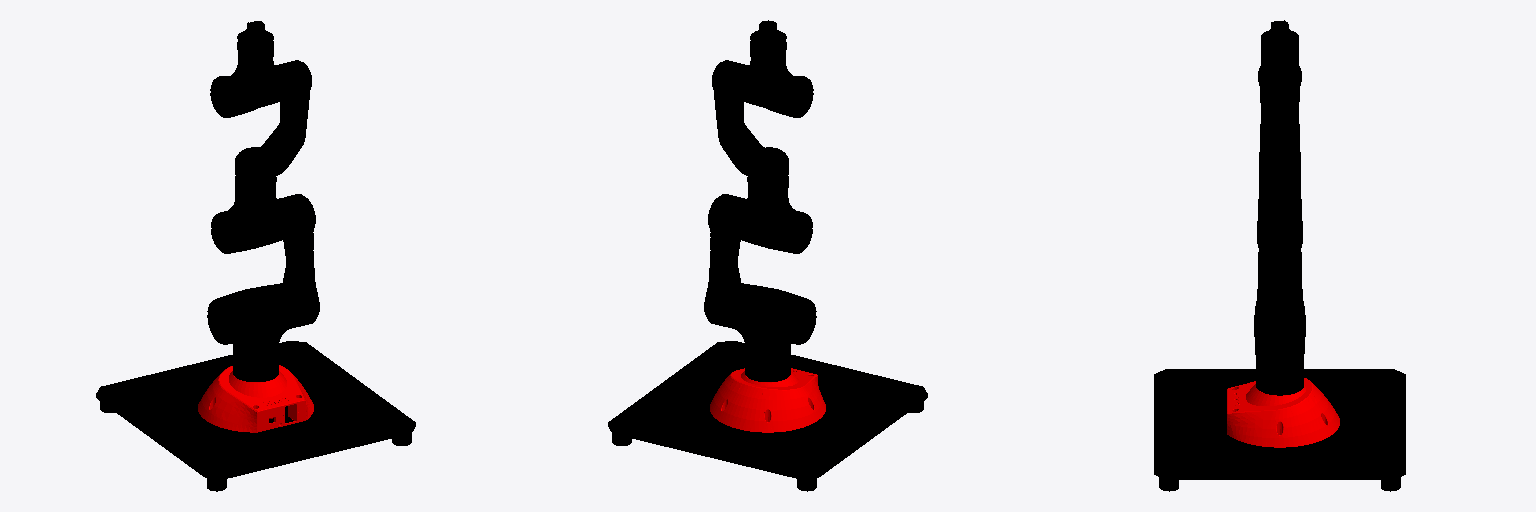
The robot description file, URDF, robot "mara":
<?xml version="1.0" ?>
<!-- =================================================================================== -->
<!-- |    This document was autogenerated by xacro from ros2_mara_ws/src/mara/mara_description/urdf/mara_robot.urdf.xacro | -->
<!-- |    EDITING THIS FILE BY HAND IS NOT RECOMMENDED                                 | -->
<!-- =================================================================================== -->
<robot name="mara" xmlns:xacro="http://ros.org/wiki/xacro">
  <!--
  Author: [author]
-->
  <link name="base_link">
    <inertial>
      <origin rpy="0 0 0" xyz="8.625E-08 -4.6583E-06 0.03145"/>
      <mass value="7.033"/>
      <inertia ixx="0.1478344" ixy="-0.00001" ixz="0.0" iyy="0.14782335" iyz="0.0" izz="0.29471799"/>
    </inertial>
    <visual>
      <origin rpy="0 0 0" xyz="0 0 0"/>
      <geometry>
        <mesh filename="package://mara_description/meshes/Base_plancha.dae" scale="0.001 0.001 0.001"/>
      </geometry>
      <material name="Gazebo/Grey">
        <color rgba="0. 0. 0. 1"/>
      </material>
    </visual>
    <collision>
      <origin rpy="0 0 0" xyz="0 0 0"/>
      <geometry>
        <mesh filename="package://mara_description/meshes/Base_plancha.dae" scale="0.001 0.001 0.001"/>
      </geometry>
    </collision>
  </link>
  <gazebo reference="base_link">
    <material>Gazebo/Grey</material>
    <selfCollide>True</selfCollide>
  </gazebo>
  <link name="base_robot">
    <inertial>
      <origin rpy="0 0 0" xyz="8.625E-08 -4.6583E-06 0.03145"/>
      <mass value="7.033"/>
      <inertia ixx="0.1478344" ixy="0.00001" ixz="0.0" iyy="0.14782335" iyz="0.0" izz="0.29471799"/>
    </inertial>
    <visual>
      <origin rpy="0 0 0" xyz="0 0 0"/>
      <geometry>
        <mesh filename="package://mara_description/meshes/Base.dae" scale="0.001 0.001 0.001"/>
      </geometry>
      <material name="Gazebo/Black">
        <color rgba="1. 0. 0. 1.0"/>
      </material>
    </visual>
    <collision>
      <origin rpy="0 0 0" xyz="0 0 0"/>
      <geometry>
        <mesh filename="package://mara_description/meshes/Base.dae" scale="0.001 0.001 0.001"/>
      </geometry>
    </collision>
  </link>
  <gazebo reference="base_robot">
    <material>Gazebo/Black</material>
    <selfCollide>True</selfCollide>
  </gazebo>
  <link name="motor1_link">
    <inertial>
      <origin rpy="0 0 0" xyz="0.02066 0 0.12051"/>
      <mass value="5.6"/>
      <inertia ixx="0.0200769278" ixy="-7.72273E-006" ixz="-0.0050158708" iyy="0.0257088151" iyz="5.49229E-006" izz="0.0120821377"/>
    </inertial>
    <visual>
      <origin rpy="0 0 0" xyz="0 0 0"/>
      <geometry>
        <mesh filename="package://mara_description/meshes/MARA_T49.dae" scale="0.001 0.001 0.001"/>
      </geometry>
      <material name="Gazebo/White">
        <color rgba="0. 0. 0. 1"/>
      </material>
    </visual>
    <collision>
      <origin rpy="0 0 0" xyz="0 0 0"/>
      <geometry>
        <mesh filename="package://mara_description/meshes/MARA_T49.dae" scale="0.001 0.001 0.001"/>
      </geometry>
    </collision>
  </link>
  <gazebo reference="motor1_link">
    <material>Gazebo/White</material>
    <selfCollide>True</selfCollide>
  </gazebo>
  <link name="motor1_cover">
    <inertial>
      <origin rpy="0 0 0" xyz="0 0 0"/>
      <mass value="0.0"/>
      <inertia ixx="0.0" ixy="0.0" ixz="0.0" iyy="0.0" iyz="0.0" izz="0.0"/>
    </inertial>
    <visual>
      <origin rpy="0 0 0" xyz="0 0 0"/>
      <geometry>
        <mesh filename="package://mara_description/meshes/MARA_T49_Black.dae" scale="0.001 0.001 0.001"/>
      </geometry>
      <material name="Gazebo/Black">
        <color rgba="0. 0. 0. 1"/>
      </material>
    </visual>
    <collision>
      <origin rpy="0 0 0" xyz="0 0 0"/>
      <geometry>
        <mesh filename="package://mara_description/meshes/MARA_T49_Black.dae" scale="0.001 0.001 0.001"/>
      </geometry>
    </collision>
  </link>
  <gazebo reference="motor1_cover">
    <material>Gazebo/Black</material>
    <selfCollide>True</selfCollide>
  </gazebo>
  <link name="motor2_link">
    <inertial>
      <origin rpy="0 0 0" xyz="-0.01665 0.0 0.09639"/>
      <mass value="1.24"/>
      <inertia ixx="0.0079614839" ixy="0.000000037" ixz="0.0003203013" iyy="0.007135338" iyz="-0.000001062" izz="0.001111114"/>
    </inertial>
    <visual>
      <origin rpy="0 0 0" xyz="0 0 0"/>
      <geometry>
        <mesh filename="package://mara_description/meshes/MARA_Link1.dae" scale="0.001 0.001 0.001"/>
      </geometry>
      <material name="Gazebo/Black">
        <color rgba="0. 0. 0. 1"/>
      </material>
    </visual>
    <collision>
      <origin rpy="0 0 0" xyz="0 0 0"/>
      <geometry>
        <mesh filename="package://mara_description/meshes/MARA_Link1.dae" scale="0.001 0.001 0.001"/>
      </geometry>
    </collision>
  </link>
  <gazebo reference="motor2_link">
    <material>Gazebo/Black</material>
    <selfCollide>True</selfCollide>
  </gazebo>
  <link name="motor3_link">
    <inertial>
      <origin rpy="0 0 0" xyz="-0.08963 0 0.0403"/>
      <mass value="3.95"/>
      <inertia ixx="0.0115136615" ixy="-1.231046E-005" ixz="0.003148516" iyy="0.0149841676" iyz="-8.81378E-006" izz="0.0070387807"/>
    </inertial>
    <visual>
      <origin rpy="0 0 0" xyz="0 0 0"/>
      <geometry>
        <mesh filename="package://mara_description/meshes/MARA_T30.dae" scale="0.001 0.001 0.001"/>
      </geometry>
      <material name="Gazebo/White">
        <color rgba="0. 0. 0. 1"/>
      </material>
    </visual>
    <collision>
      <origin rpy="0 0 0" xyz="0 0 0"/>
      <geometry>
        <mesh filename="package://mara_description/meshes/MARA_T30.dae" scale="0.001 0.001 0.001"/>
      </geometry>
    </collision>
  </link>
  <gazebo reference="motor3_link">
    <material>Gazebo/White</material>
    <selfCollide>True</selfCollide>
  </gazebo>
  <link name="motor3_cover">
    <inertial>
      <origin rpy="0 0 0" xyz="0 0 0"/>
      <mass value="0.0"/>
      <inertia ixx="0.0" ixy="0.0" ixz="0.0" iyy="0.0" iyz="0.0" izz="0.0"/>
    </inertial>
    <visual>
      <origin rpy="0 0 0" xyz="0 0 0"/>
      <geometry>
        <mesh filename="package://mara_description/meshes/MARA_T30_Black.dae" scale="0.001 0.001 0.001"/>
      </geometry>
      <material name="Gazebo/Black">
        <color rgba="0. 0. 0. 1"/>
      </material>
    </visual>
    <collision>
      <origin rpy="0 0 0" xyz="0 0 0"/>
      <geometry>
        <mesh filename="package://mara_description/meshes/MARA_T30_Black.dae" scale="0.001 0.001 0.001"/>
      </geometry>
    </collision>
  </link>
  <gazebo reference="motor3_cover">
    <material>Gazebo/Black</material>
    <selfCollide>True</selfCollide>
  </gazebo>
  <link name="motor4_link">
    <inertial>
      <origin rpy="0 0 0" xyz="0.06357 0.0 0.05698"/>
      <mass value="1.26"/>
      <inertia ixx="0.005919676" ixy="0.000000923" ixz="-0.0022280208" iyy="0.0068807393" iyz="6.1373E-007" izz="0.00257485"/>
    </inertial>
    <visual>
      <origin rpy="0 0 0" xyz="0 0 0"/>
      <geometry>
        <mesh filename="package://mara_description/meshes/MARA_Link2.dae" scale="0.001 0.001 0.001"/>
      </geometry>
      <material name="Gazebo/Black">
        <color rgba="0. 0. 0. 1"/>
      </material>
    </visual>
    <collision>
      <origin rpy="0 0 0" xyz="0 0 0"/>
      <geometry>
        <mesh filename="package://mara_description/meshes/MARA_Link2.dae" scale="0.001 0.001 0.001"/>
      </geometry>
    </collision>
  </link>
  <gazebo reference="motor4_link">
    <material>Gazebo/Black</material>
    <selfCollide>True</selfCollide>
  </gazebo>
  <link name="motor5_link">
    <inertial>
      <origin rpy="0 0 0" xyz="-0.09105 0.0 0.03676"/>
      <mass value="2.85"/>
      <inertia ixx="0.0072829492" ixy="3.77994E-006" ixz="0.0015682105" iyy="0.0098263499" iyz="2.52745E-006" izz="0.0045615321"/>
    </inertial>
    <visual>
      <origin rpy="0 0 0" xyz="0 0 0"/>
      <geometry>
        <mesh filename="package://mara_description/meshes/MARA_T5.4.dae" scale="0.001 0.001 0.001"/>
      </geometry>
      <material name="Gazebo/White">
        <color rgba="0. 0. 0. 1"/>
      </material>
    </visual>
    <collision>
      <origin rpy="0 0 0" xyz="0 0 0"/>
      <geometry>
        <mesh filename="package://mara_description/meshes/MARA_T5.4.dae" scale="0.001 0.001 0.001"/>
      </geometry>
    </collision>
  </link>
  <gazebo reference="motor5_link">
    <material>Gazebo/White</material>
    <selfCollide>True</selfCollide>
  </gazebo>
  <link name="motor5_cover">
    <inertial>
      <origin rpy="0 0 0" xyz="0 0 0"/>
      <mass value="0.0"/>
      <inertia ixx="0.0" ixy="0.0" ixz="0.0" iyy="0.0" iyz="0.0" izz="0.0"/>
    </inertial>
    <visual>
      <origin rpy="0 0 0" xyz="0 0 0"/>
      <geometry>
        <mesh filename="package://mara_description/meshes/MARA_T5.4_black.dae" scale="0.001 0.001 0.001"/>
      </geometry>
      <material name="Gazebo/Black">
        <color rgba="0. 0. 0. 1"/>
      </material>
    </visual>
    <collision>
      <origin rpy="0 0 0" xyz="0 0 0"/>
      <geometry>
        <mesh filename="package://mara_description/meshes/MARA_T5.4_black.dae" scale="0.001 0.001 0.001"/>
      </geometry>
    </collision>
  </link>
  <gazebo reference="motor5_cover">
    <material>Gazebo/Black</material>
    <selfCollide>True</selfCollide>
  </gazebo>
  <!-- dummy link with the required tags-->
  <link name="motor6_link">
    <inertial>
      <origin rpy="0 0 0" xyz="0 0 0"/>
      <mass value="0.00001"/>
      <inertia ixx="0" ixy="0" ixz="0" iyy="0" iyz="0" izz="0"/>
    </inertial>
    <visual>
      <origin rpy="0 0 0" xyz="0 0 0"/>
      <geometry>
        <sphere radius="0"/>
      </geometry>
    </visual>
    <collision>
      <origin rpy="0 0 0" xyz="0 0 0"/>
      <geometry>
        <sphere radius="0"/>
      </geometry>
    </collision>
  </link>
  <link name="ee_link"/>
  <joint name="joint_bases" type="fixed">
    <origin rpy="0 0 0" xyz="0 0 0.04"/>
    <parent link="base_link"/>
    <child link="base_robot"/>
  </joint>
  <joint name="motor1" type="revolute">
    <origin rpy="0 0 0" xyz="0 0 0.05122"/>
    <parent link="base_robot"/>
    <child link="motor1_link"/>
    <axis xyz="0 0 1"/>
    <limit effort="104.0" lower="-3.1416" upper="3.1416" velocity="1.57"/>
    <dynamics damping="0" friction="0"/>
  </joint>
  <joint name="motor1_cover_joint" type="fixed">
    <origin rpy="0 0 0" xyz="0 0 0.0"/>
    <parent link="motor1_link"/>
    <child link="motor1_cover"/>
  </joint>
  <joint name="motor2" type="revolute">
    <origin rpy="0 0 0" xyz="0.118 0 0.1637"/>
    <parent link="motor1_link"/>
    <child link="motor2_link"/>
    <axis xyz="1 0 0"/>
    <limit effort="104.0" lower="-2.35" upper="2.35" velocity="1.57"/>
    <dynamics damping="0" friction="0"/>
  </joint>
  <joint name="motor3" type="revolute">
    <origin rpy="0 0 0" xyz="-0.009 0 0.2"/>
    <parent link="motor2_link"/>
    <child link="motor3_link"/>
    <axis xyz="-1 0 0"/>
    <limit effort="69" lower="-2.61" upper="2.61" velocity="1.57"/>
    <dynamics damping="0" friction="0"/>
  </joint>
  <joint name="motor3_cover_joint" type="fixed">
    <origin rpy="0 0 0" xyz="0 0 0.0"/>
    <parent link="motor3_link"/>
    <child link="motor3_cover"/>
  </joint>
  <joint name="motor4" type="revolute">
    <origin rpy="0 0 0" xyz="-0.109255 0 0.149255"/>
    <parent link="motor3_link"/>
    <child link="motor4_link"/>
    <axis xyz="0 0 1"/>
    <limit effort="69" lower="-3.14" upper="3.14" velocity="1.57"/>
    <dynamics damping="0" friction="0"/>
  </joint>
  <joint name="motor5" type="revolute">
    <origin rpy="0 0 0" xyz="0.1054570 0 0.16074"/>
    <parent link="motor4_link"/>
    <child link="motor5_link"/>
    <axis xyz="-1 0 0"/>
    <limit effort="34" lower="-2.56" upper="2.56" velocity="1.57"/>
    <dynamics damping="0" friction="0"/>
  </joint>
  <joint name="motor5_cover_joint" type="fixed">
    <origin rpy="0 0 0" xyz="0 0 0.0"/>
    <parent link="motor5_link"/>
    <child link="motor5_cover"/>
  </joint>
  <joint name="motor6" type="revolute">
    <origin rpy="0 0 0" xyz="-0.10625569 0 0.14675569"/>
    <parent link="motor5_link"/>
    <child link="motor6_link"/>
    <axis xyz="0 0 1"/>
    <limit effort="34" lower="-3.14" upper="3.14" velocity="1.57"/>
    <dynamics damping="0" friction="0"/>
  </joint>
  <joint name="ee_link" type="fixed">
    <origin rpy="0 -1.57 0" xyz="0 0.0 0.0"/>
    <parent link="motor6_link"/>
    <child link="ee_link"/>
  </joint>
  <link name="tool0"/>
  <joint name="motor6_link-tool0_fixed_joint" type="fixed">
    <origin rpy="0 -1.57 0" xyz="0 0.0 0.0"/>
    <parent link="motor6_link"/>
    <child link="tool0"/>
  </joint>
  <transmission name="shoulder_pan_trans">
    <type>transmission_interface/SimpleTransmission</type>
    <joint name="motor1">
      <hardwareInterface>hardware_interface/PositionJointInterface</hardwareInterface>
    </joint>
    <actuator name="shoulder_pan_motor">
      <mechanicalReduction>1</mechanicalReduction>
    </actuator>
  </transmission>
  <transmission name="shoulder_lift_trans">
    <type>transmission_interface/SimpleTransmission</type>
    <joint name="motor2">
      <hardwareInterface>hardware_interface/PositionJointInterface</hardwareInterface>
    </joint>
    <actuator name="shoulder_lift_motor">
      <mechanicalReduction>1</mechanicalReduction>
    </actuator>
  </transmission>
  <transmission name="elbow_trans">
    <type>transmission_interface/SimpleTransmission</type>
    <joint name="motor3">
      <hardwareInterface>hardware_interface/PositionJointInterface</hardwareInterface>
    </joint>
    <actuator name="elbow_motor">
      <mechanicalReduction>1</mechanicalReduction>
    </actuator>
  </transmission>
  <transmission name="wrist_1_trans">
    <type>transmission_interface/SimpleTransmission</type>
    <joint name="motor4">
      <hardwareInterface>hardware_interface/PositionJointInterface</hardwareInterface>
    </joint>
    <actuator name="wrist_1_motor">
      <mechanicalReduction>1</mechanicalReduction>
    </actuator>
  </transmission>
  <transmission name="wrist_2_trans">
    <type>transmission_interface/SimpleTransmission</type>
    <joint name="motor5">
      <hardwareInterface>hardware_interface/PositionJointInterface</hardwareInterface>
    </joint>
    <actuator name="wrist_2_motor">
      <mechanicalReduction>1</mechanicalReduction>
    </actuator>
  </transmission>
  <transmission name="wrist_3_trans">
    <type>transmission_interface/SimpleTransmission</type>
    <joint name="motor6">
      <hardwareInterface>hardware_interface/PositionJointInterface</hardwareInterface>
    </joint>
    <actuator name="wrist_3_motor">
      <mechanicalReduction>1</mechanicalReduction>
    </actuator>
  </transmission>
  <gazebo>
    <plugin filename="libgazebo_ros_joint_state_publisher.so" name="mara_joint_state">
      <ros>
        <argument>~/out:=joint_states</argument>
      </ros>
      <update_rate>25</update_rate>
      <joint_name>motor1</joint_name>
      <joint_name>motor2</joint_name>
      <joint_name>motor3</joint_name>
      <joint_name>motor4</joint_name>
      <joint_name>motor5</joint_name>
      <joint_name>motor6</joint_name>
      <joint_name>joint_finger</joint_name>
    </plugin>
    <plugin filename="libmara_gazebo_joint_plugin.so" name="hrim_actuation_servomotor_000000000001">
      <ros/>
      <axis1>motor2</axis1>
      <axis2>motor1</axis2>
      <type>series14</type>
    </plugin>
    <plugin filename="libmara_gazebo_joint_plugin.so" name="hrim_actuation_servomotor_000000000002">
      <ros/>
      <axis1>motor3</axis1>
      <axis2>motor4</axis2>
      <type>series17</type>
    </plugin>
    <plugin filename="libmara_gazebo_joint_plugin.so" name="hrim_actuation_servomotor_000000000003">
      <ros/>
      <axis1>motor5</axis1>
      <axis2>motor6</axis2>
      <type>series20</type>
    </plugin>
  </gazebo>
  <link name="world"/>
  <joint name="world_to_base_joint" type="fixed">
    <origin rpy="0 0 0" xyz="0 0 0"/>
    <parent link="world"/>
    <child link="base_link"/>
  </joint>
</robot>

--- Render facts (derived) ---
Views: 3 orthographic renders of the robot side by side, from view 1: azimuth 30°, elevation 25°; view 2: azimuth 150°, elevation 25°; view 3: azimuth 270°, elevation 25°.
Robot: mara — 14 links, 13 joints (6 revolute, 7 fixed); root link world; default pose: every joint at zero.
Visible links, largest first — view 1: base_link, base_robot, motor1_link, motor4_link, motor5_link, motor3_link, motor2_link, motor1_cover, motor5_cover, motor3_cover; view 2: base_link, base_robot, motor1_link, motor4_link, motor5_link, motor3_link, motor2_link, motor1_cover, motor5_cover, motor3_cover; view 3: base_link, motor2_link, base_robot, motor4_link, motor5_link, motor3_link, motor1_link.
Boxes of the visible links, left/top/right/bottom form: base_link: left=96, top=341, right=415, bottom=491; base_robot: left=198, top=365, right=313, bottom=432; motor1_link: left=233, top=283, right=300, bottom=377; motor4_link: left=235, top=60, right=311, bottom=180; motor5_link: left=230, top=21, right=291, bottom=107; motor3_link: left=228, top=176, right=294, bottom=247; motor2_link: left=283, top=194, right=319, bottom=326; motor1_cover: left=207, top=281, right=304, bottom=381; motor5_cover: left=210, top=22, right=296, bottom=117; motor3_cover: left=211, top=173, right=299, bottom=253; base_link: left=608, top=341, right=927, bottom=491; base_robot: left=710, top=368, right=825, bottom=432; motor1_link: left=723, top=283, right=790, bottom=377; motor4_link: left=712, top=60, right=788, bottom=180; motor5_link: left=732, top=20, right=793, bottom=107; motor3_link: left=729, top=176, right=795, bottom=247; motor2_link: left=704, top=194, right=740, bottom=326; motor1_cover: left=719, top=281, right=816, bottom=381; motor5_cover: left=727, top=22, right=813, bottom=117; motor3_cover: left=724, top=173, right=812, bottom=253; base_link: left=1154, top=369, right=1405, bottom=491; motor2_link: left=1256, top=231, right=1303, bottom=370; base_robot: left=1227, top=378, right=1339, bottom=447; motor4_link: left=1259, top=91, right=1300, bottom=184; motor5_link: left=1260, top=20, right=1299, bottom=103; motor3_link: left=1257, top=184, right=1302, bottom=247; motor1_link: left=1254, top=309, right=1305, bottom=390.
Bounding box of the posed robot: 0.5 × 0.5 × 0.9122 m (x, y, z).
Meshes: 10 distinct files referenced, 10 mesh visuals loaded (10 Collada DAE).
